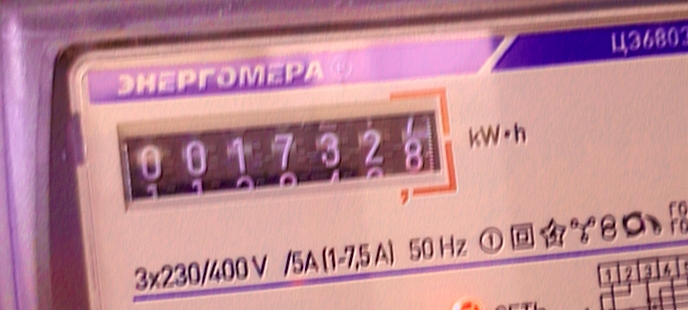0: (135, 141, 165, 184), (183, 137, 210, 178)
1: (227, 134, 250, 176)
2: (359, 127, 385, 166)
3: (317, 130, 343, 168)
7: (272, 131, 298, 172)
8: (401, 135, 424, 173)
screen: (104, 82, 469, 238)
